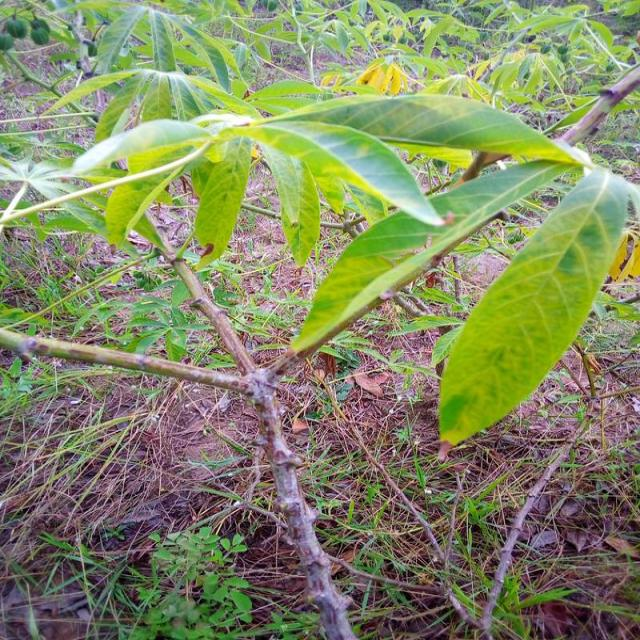cassava leaf: (436, 167, 634, 450)
